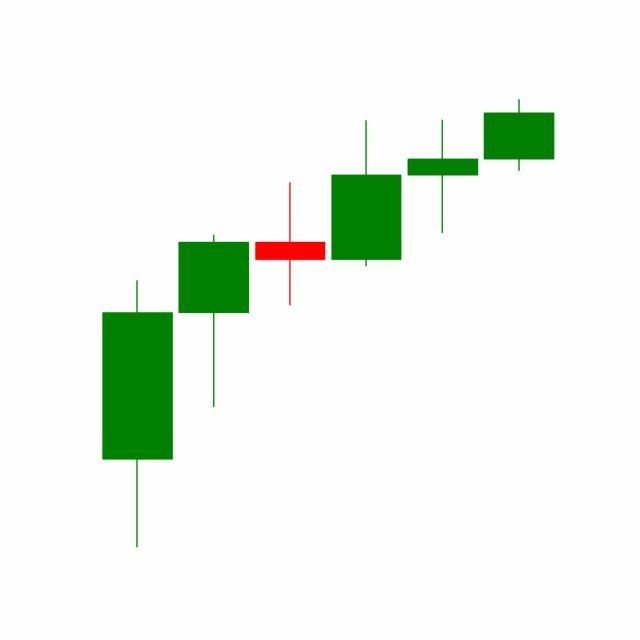Spinning Top: (404, 118, 482, 235)
